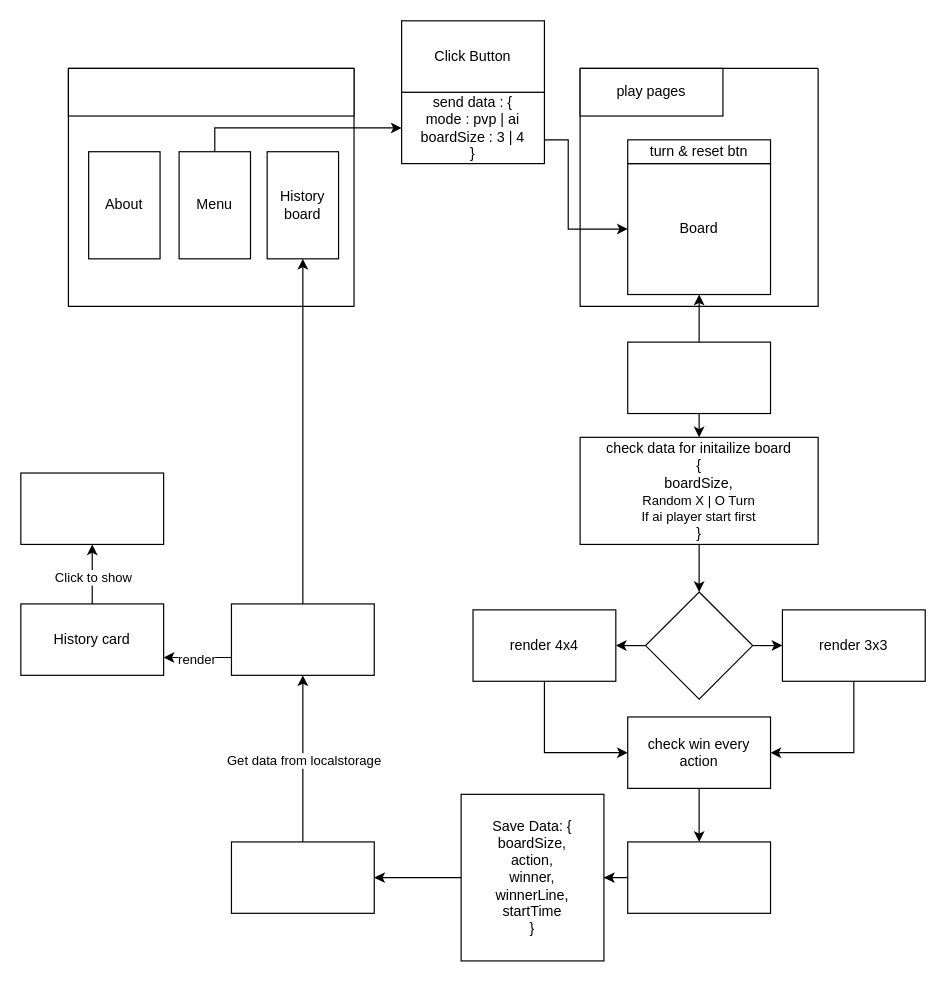
Some shapes in this 946 by 982 pixel diagram are drawn without their labels. Here are the shapes that lost their labels. From the top down, the centre of each, then its label:
(x=210, y=91): Main menu pages
(x=699, y=377): Board component
(x=92, y=508): replay board
(x=302, y=639): History Board component
(x=698, y=645): check 3x3 or 4x4 board?
(x=302, y=877): LocalStorage
(x=699, y=877): Finish Game {"X" , "O" , "Tie"}
